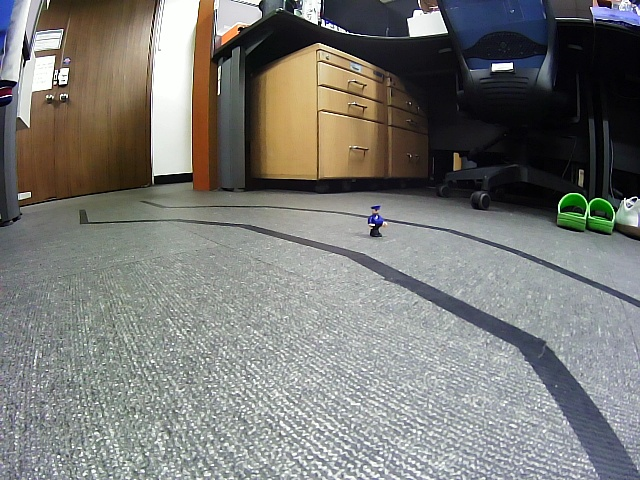person: (368, 205, 387, 237)
